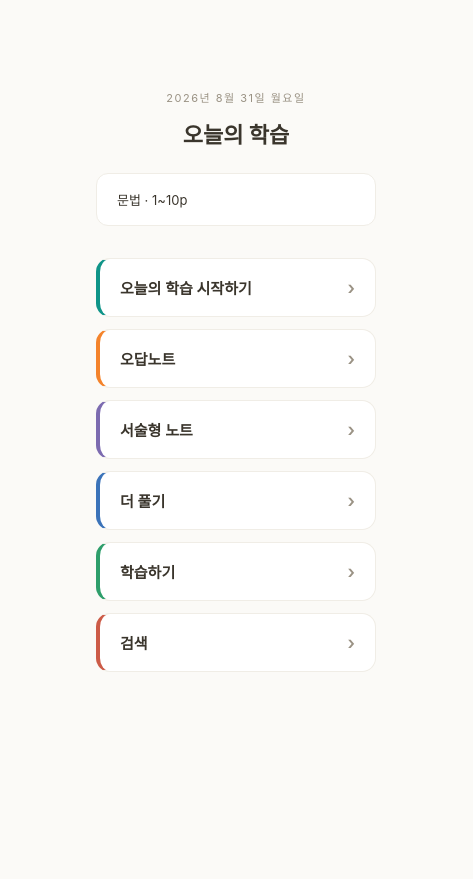
Daily session page › submits the two-stage essay answer and shows the concept checklist score
Click the button "오늘의 학습 시작하기 ›" at (236,287), box [96,258,376,316]
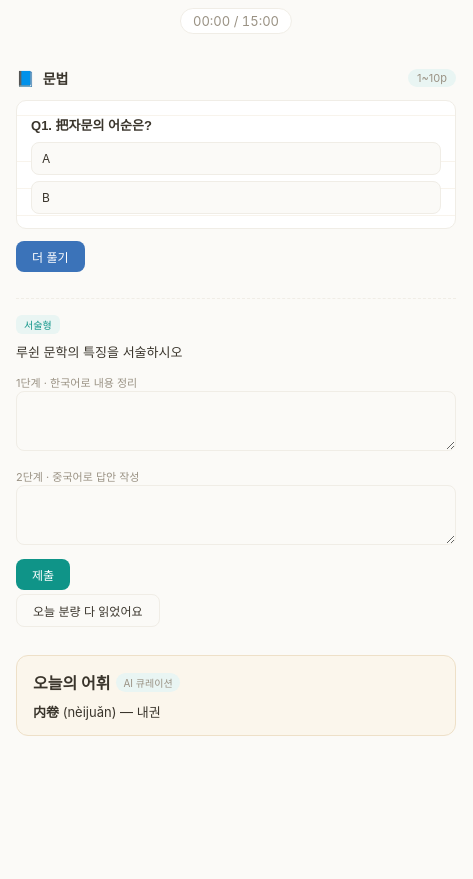
Type "루쉰은 사실주의 기법으로..." into the text box labelled "1단계 · 한국어로 내용 정리" at (236,421), box [16,391,456,451]
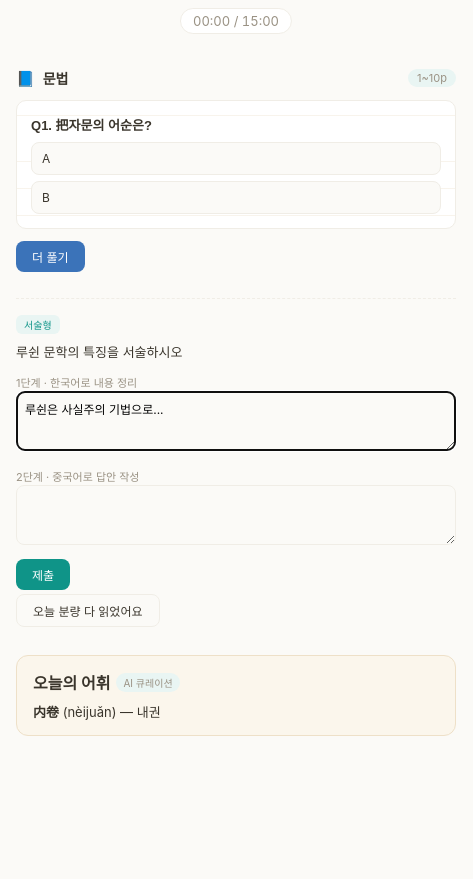
Type "鲁迅用现实主义手法..." into the text box labelled "2단계 · 중국어로 답안 작성" at (236,515), box [16,485,456,545]
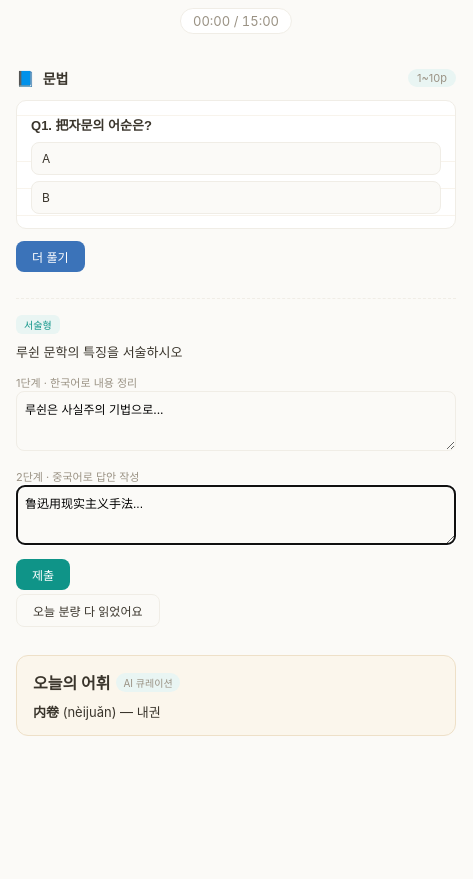
Click the button "제출" at (43,574), box [16,559,70,590]
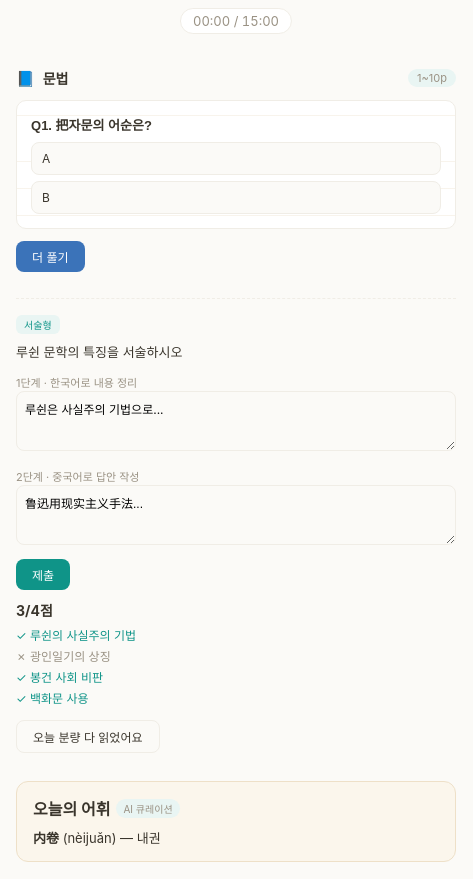
Now the text "3/4점" is shown, box [16,602,53,619]
Now the list item "✓ 루쉰의 사실주의 기법" is shown, box [16,628,136,643]
